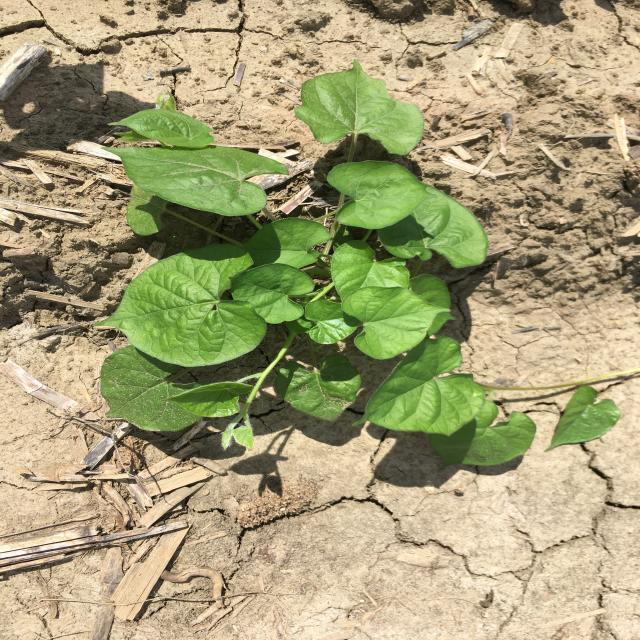MorningGlory: (92, 58, 639, 470)
